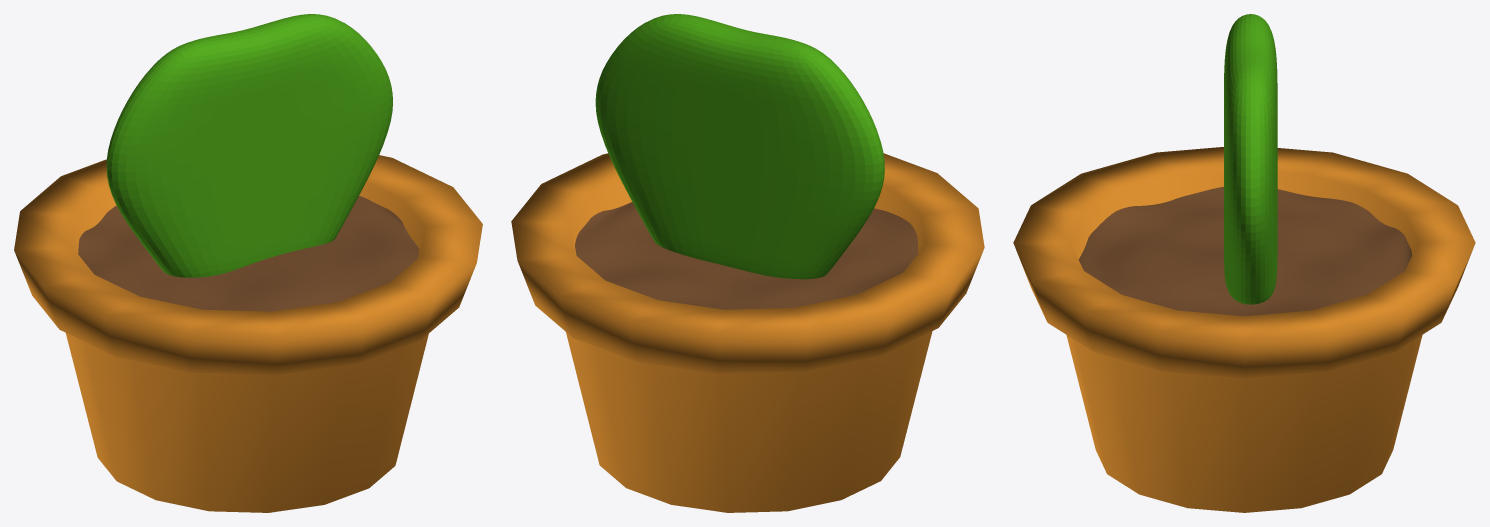
Rendered from WaxPlant.fbx.
The picture shows the model from 3 angles, left to right: view 1: azimuth 30°, elevation 25°; view 2: azimuth 150°, elevation 25°; view 3: azimuth 270°, elevation 25°; orthographic projection. The views are drawn at different scales.
Visible parts, largest first — view 1: Plane.013, Plane.012, Circle.012; view 2: Plane.013, Plane.012, Circle.012; view 3: Plane.013, Circle.012, Plane.012.
Boxes of the visible parts, x1,y1,x2,y2 form: Plane.013: (14, 155, 482, 512); Plane.012: (106, 14, 392, 277); Circle.012: (78, 196, 419, 311); Plane.013: (511, 153, 984, 512); Plane.012: (595, 14, 884, 279); Circle.012: (575, 202, 918, 309); Plane.013: (1013, 147, 1475, 512); Circle.012: (1078, 186, 1412, 316); Plane.012: (1224, 14, 1277, 304).
Bounding box in the file's own units: 22.67 × 22.02 × 22.67.
